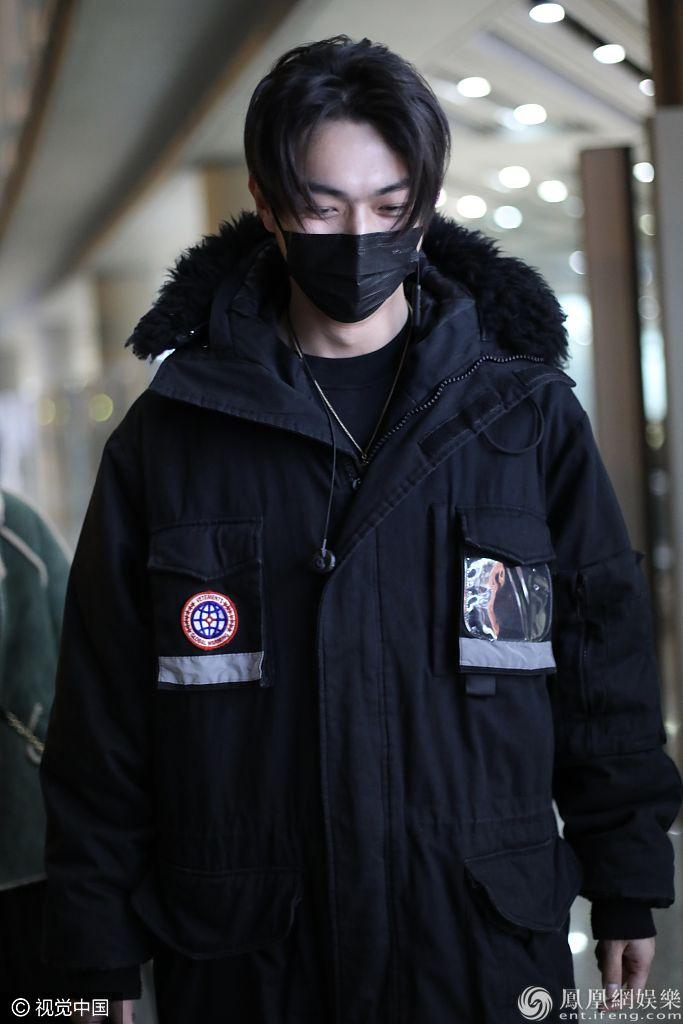mask: (275, 143, 437, 316)
